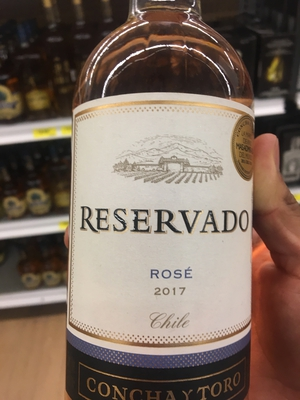reservado rose: (67, 22, 260, 400)
